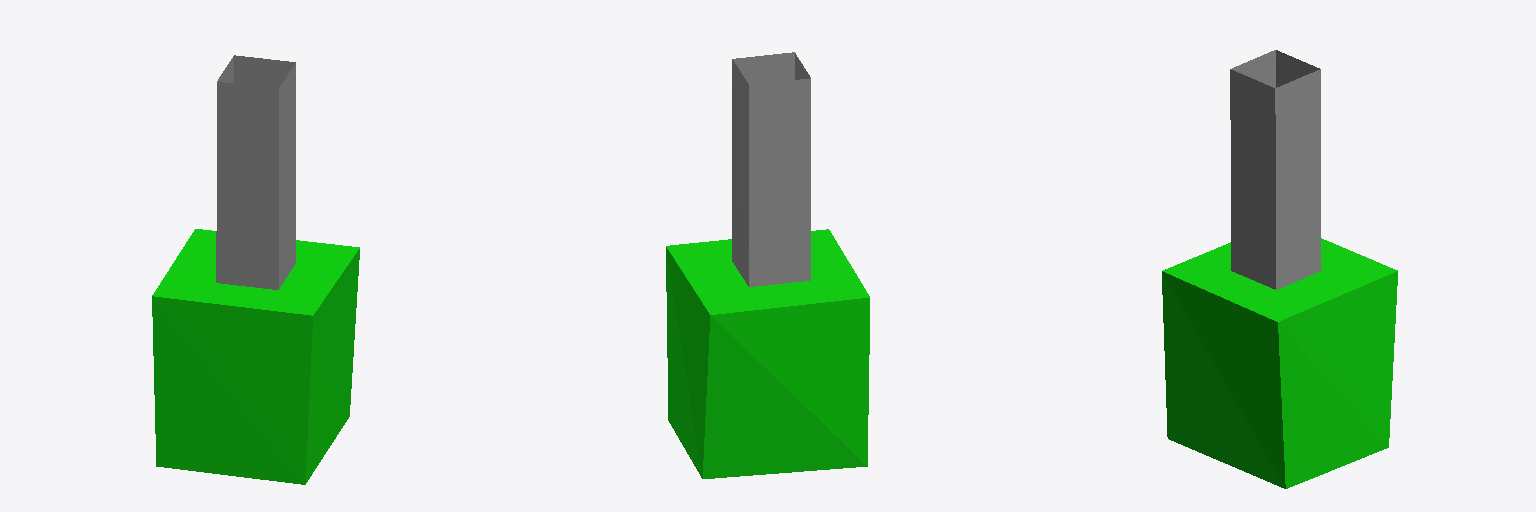
3 renders of one model, left to right at view 1: azimuth 30°, elevation 25°; view 2: azimuth 150°, elevation 25°; view 3: azimuth 270°, elevation 25°, orthographic.
Size of the model in its own units: 3.64 by 6.28 by 3.61.
2 materials, 1 textured.